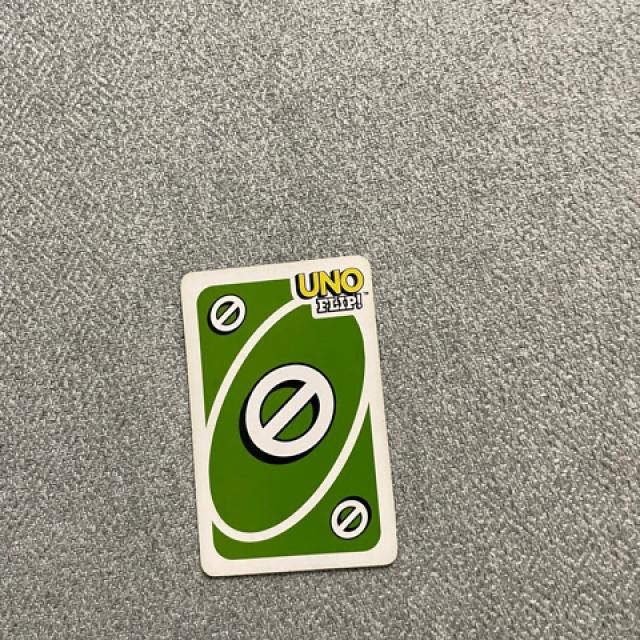lgreenskip-20: (193, 280, 260, 346)
